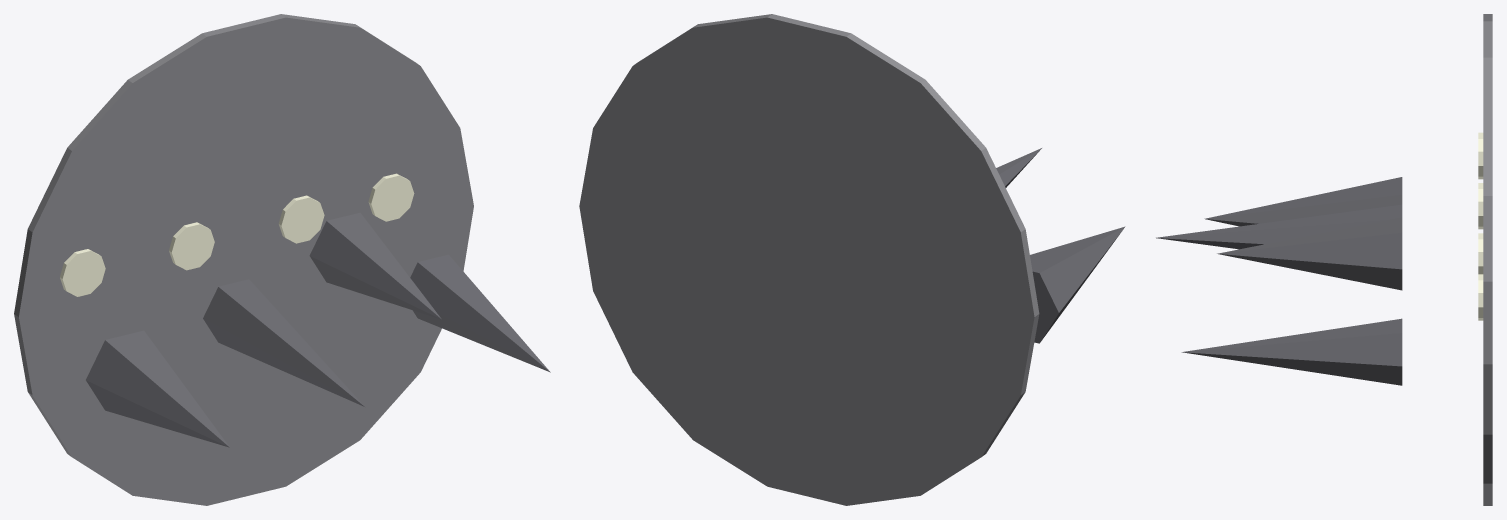
The model's file is 04_event_hazard_cluster.glb.
3 renders of one model, left to right at view 1: azimuth 30°, elevation 25°; view 2: azimuth 150°, elevation 25°; view 3: azimuth 270°, elevation 25°, orthographic. The views are drawn at different scales.
Parts seen in each view (by area): view 1: scatter_base, basalt_shard_0, basalt_shard_1, basalt_shard_2, basalt_shard_3, lava_glow_3, lava_glow_2, lava_glow_0, lava_glow_1; view 2: scatter_base, basalt_shard_0, basalt_shard_1; view 3: basalt_shard_3, basalt_shard_2, scatter_base, basalt_shard_1, basalt_shard_0.
Boxes of the visible parts, <box> form: scatter_base: <box>14,14,473,505</box>; basalt_shard_0: <box>86,330,229,447</box>; basalt_shard_1: <box>203,279,364,406</box>; basalt_shard_2: <box>309,212,441,319</box>; basalt_shard_3: <box>410,254,550,372</box>; lava_glow_3: <box>368,173,414,221</box>; lava_glow_2: <box>278,195,324,243</box>; lava_glow_0: <box>60,249,105,296</box>; lava_glow_1: <box>169,222,214,270</box>; scatter_base: <box>579,14,1039,505</box>; basalt_shard_0: <box>1030,226,1125,343</box>; basalt_shard_1: <box>996,148,1041,187</box>; basalt_shard_3: <box>1181,318,1402,385</box>; basalt_shard_2: <box>1217,217,1402,290</box>; scatter_base: <box>1483,14,1492,505</box>; basalt_shard_1: <box>1156,204,1402,249</box>; basalt_shard_0: <box>1204,177,1402,226</box>.
Bounding box in the file's own units: 1.9 × 1.87 × 1.3.
